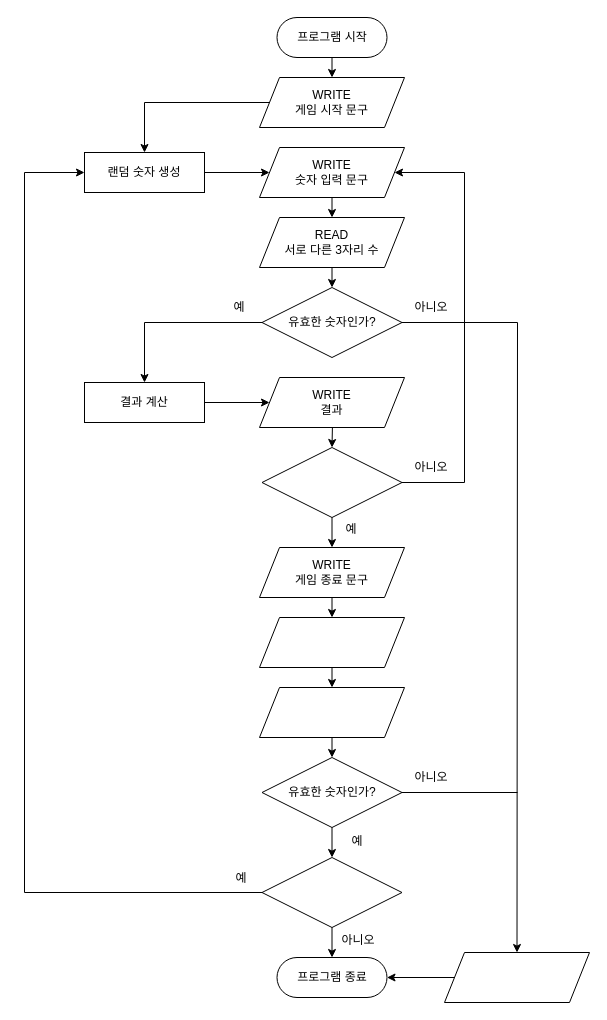
The diagram is 607 pixels wide and 1020 high, and some of its shapes have lost their labels. The shapes that lost their labels are listed below. From the top down, each one's centre as x and y in pixels, then its label:
(x=331, y=482): 3 스트라이크인가?
(x=331, y=642): WRITE 게임 재시작 문구
(x=331, y=712): READ 1 또는 2
(x=331, y=892): 1이 입력되었는가?
(x=517, y=977): WRITE 오류 문구
